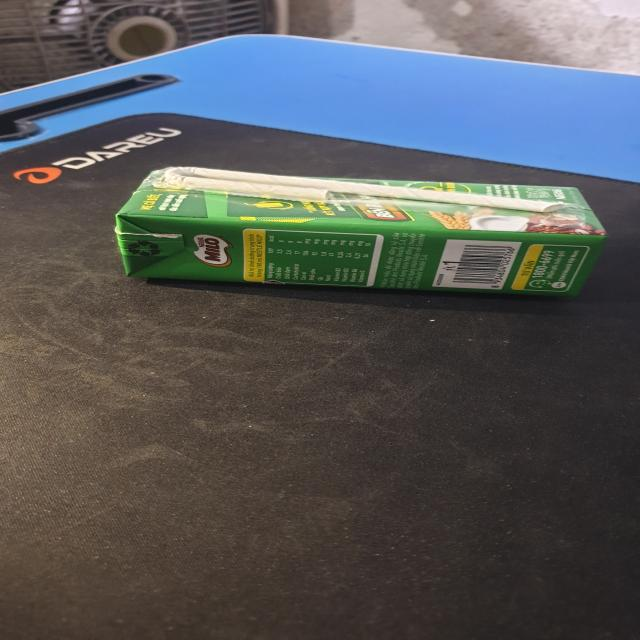Milo: (111, 166, 613, 303)
